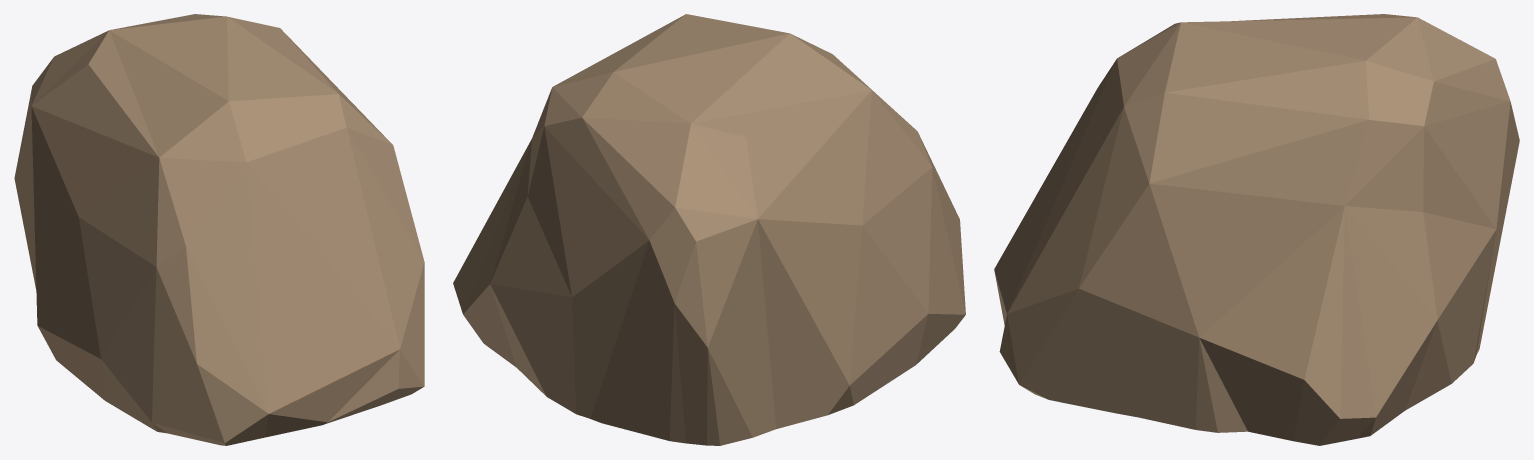
Rendered from rock14.fbx.
3 renders of one model, left to right at view 1: azimuth 30°, elevation 25°; view 2: azimuth 150°, elevation 25°; view 3: azimuth 270°, elevation 25°, orthographic. The views are drawn at different scales.
Visible parts, largest first — view 1: Rock14; view 2: Rock14; view 3: Rock14.
Part boxes in pixels (bbox=[...]): Rock14: bbox=[14, 14, 424, 445]; Rock14: bbox=[453, 14, 965, 445]; Rock14: bbox=[994, 14, 1519, 445].
Size of the model in its own units: 1.95 by 1.42 by 2.16.
